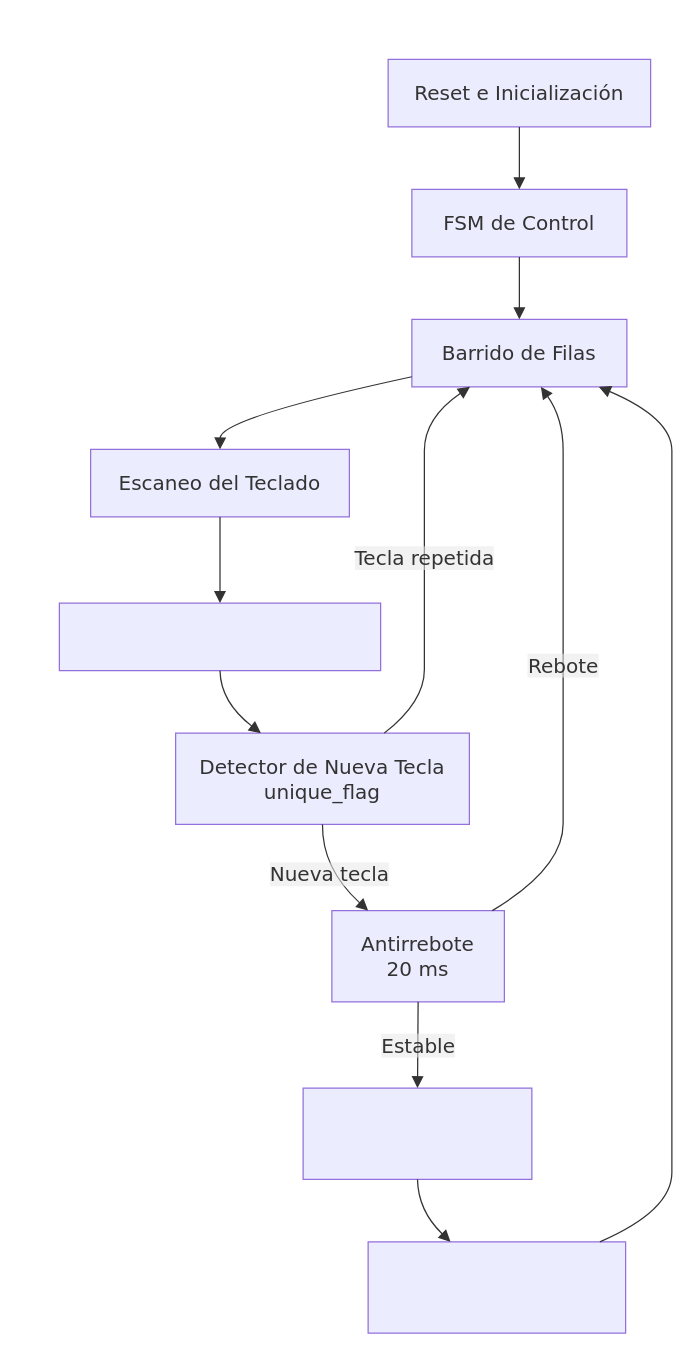
Some shapes in this 694 by 1355 pixel diagram are drawn without their labels. Here are the shapes that lost their labels. From the top down, the centre of each, then its label:
At point (219, 636): "Decodificador Fila-Columna".
At point (417, 1133): "Registro de Tecla prev_tecla".
At point (496, 1287): "Salidas data, done, end_flag".
